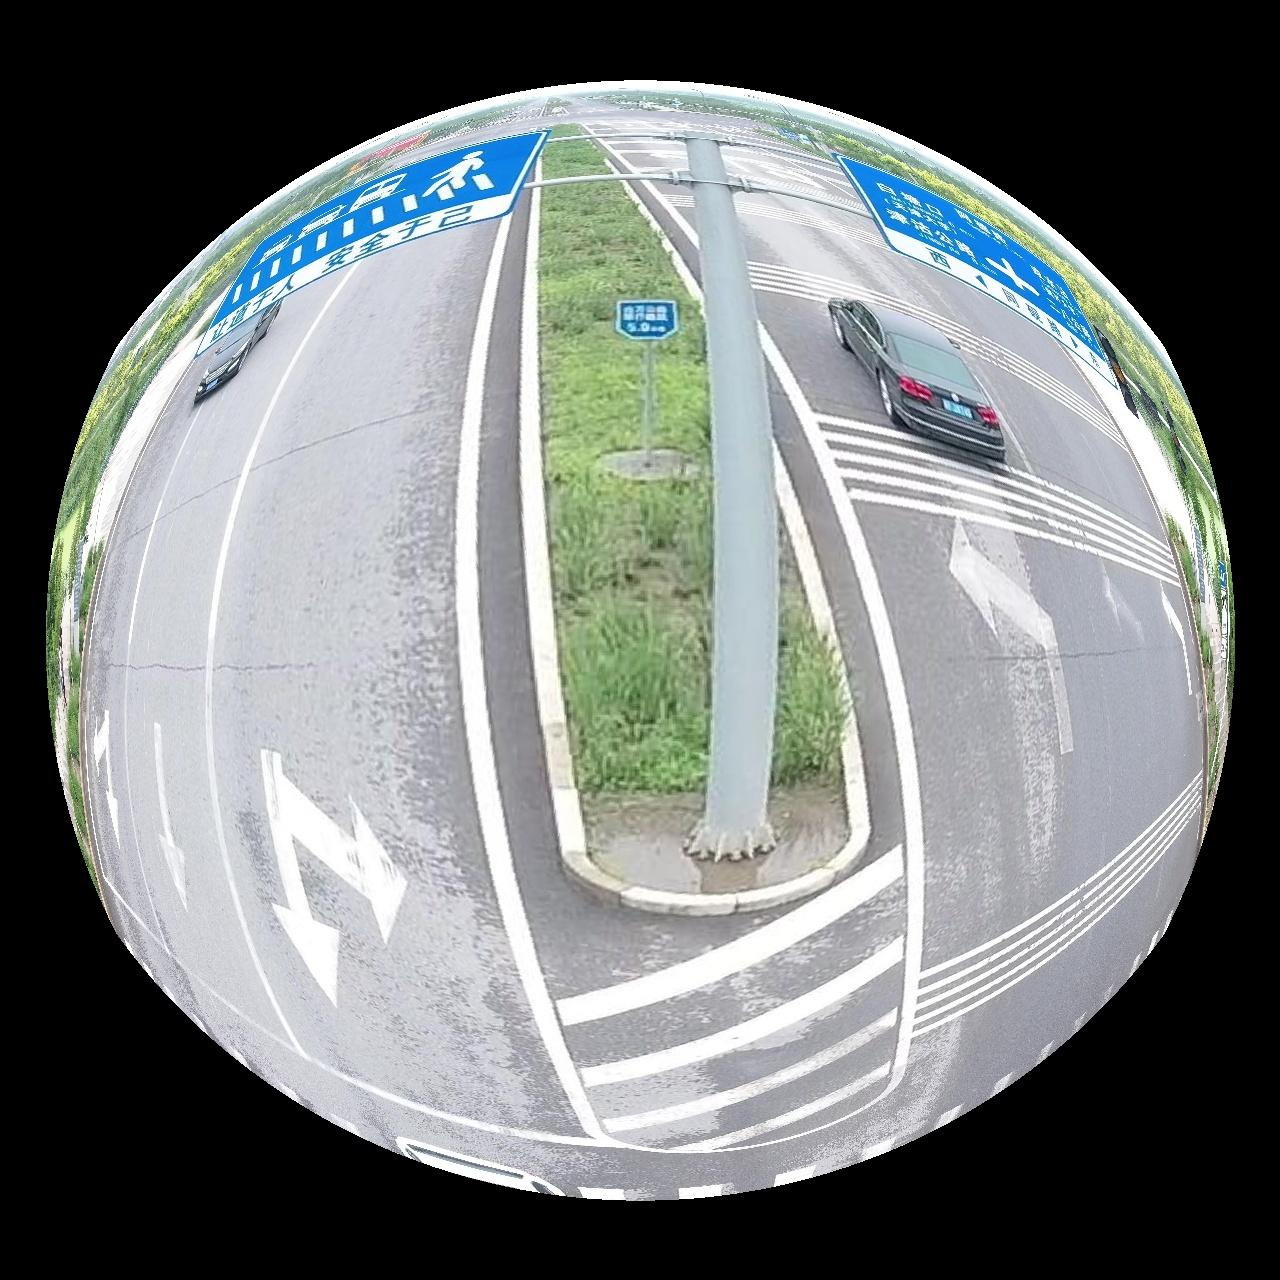cars: (830, 297, 1007, 461), (193, 299, 280, 402)
